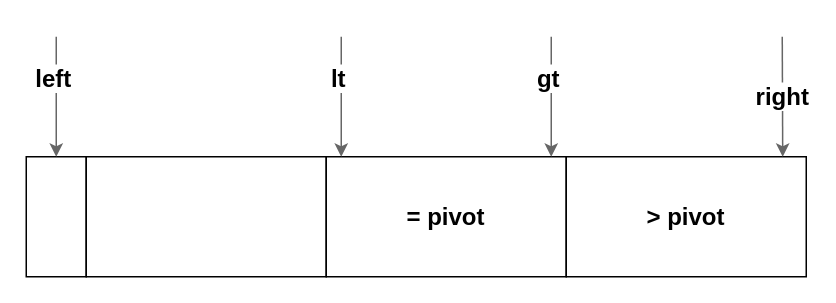
The diagram is 836 pixels wide and 303 high, and some of its shapes have lost their labels. The centre of each missing label's shape, as x and y in pixels:
< pivot: [205,216]
pivot: [55,216]
